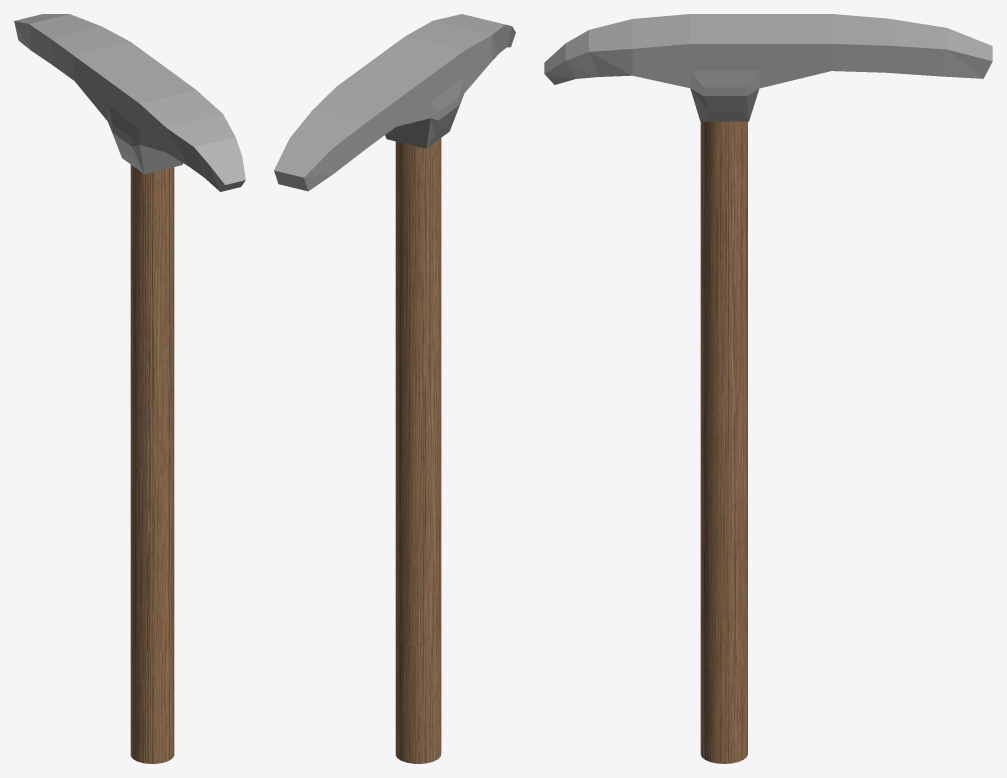
Rendered from axe.fbx.
3 views of the same model, side by side, from view 1: azimuth 30°, elevation 25°; view 2: azimuth 150°, elevation 25°; view 3: azimuth 270°, elevation 25° (orthographic). The views are drawn at different scales.
Parts seen in each view (by area): view 1: pCylinder1, pCube1; view 2: pCylinder1, pCube1; view 3: pCylinder1, pCube1.
Boxes of the visible parts, x1=… form: pCylinder1: x1=130, y1=164, x2=174, y2=763; pCube1: x1=14, y1=14, x2=245, y2=191; pCylinder1: x1=395, y1=138, x2=441, y2=763; pCube1: x1=274, y1=14, x2=515, y2=191; pCylinder1: x1=700, y1=121, x2=747, y2=763; pCube1: x1=544, y1=14, x2=992, y2=121.
Bounding box in the file's own units: 3.1 × 33.66 × 18.88.
